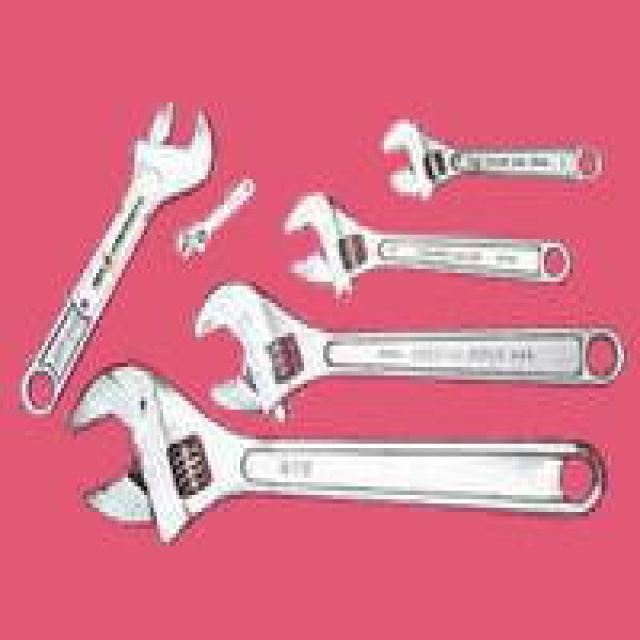wrench: (62, 356, 611, 552), (189, 268, 631, 429), (15, 92, 222, 428), (276, 177, 578, 308), (374, 106, 610, 212), (175, 170, 264, 268)
